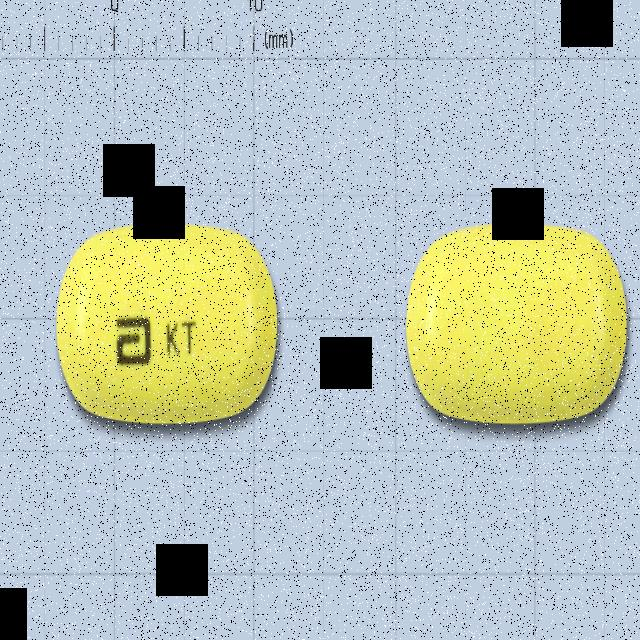Klaricid Film Coated - 500mg: (57, 221, 278, 424)
